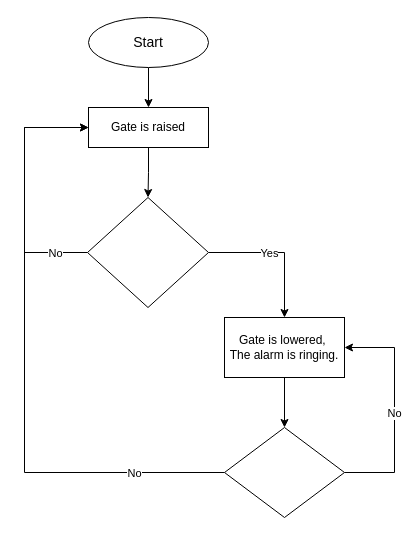
This 420x535 diagram has some shape labels left out. Here are the shapes that lost their labels. From the top down, the centre of each, then its label:
At pixel 147 252: "Vehicle detect or train approaching ?".
At pixel 284 472: "No upcoming train detected ?".
